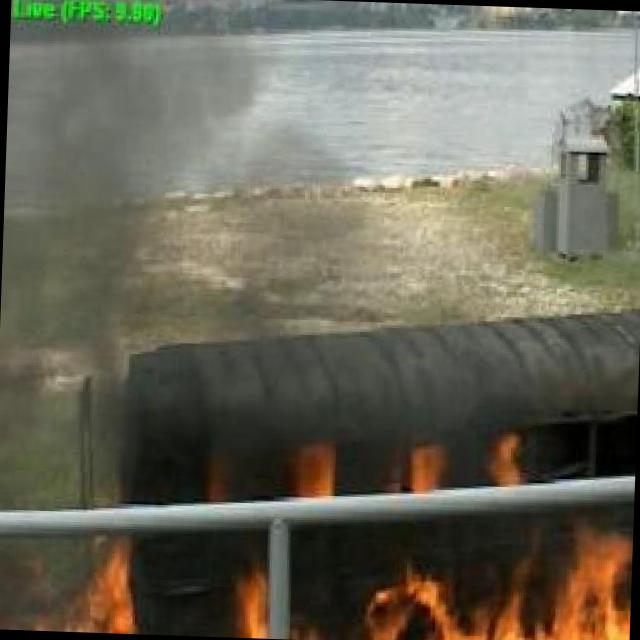Fire: (356, 523, 633, 640), (199, 431, 356, 505), (70, 524, 137, 634), (228, 535, 292, 639), (407, 448, 532, 501)
Smoke: (0, 29, 360, 351)
